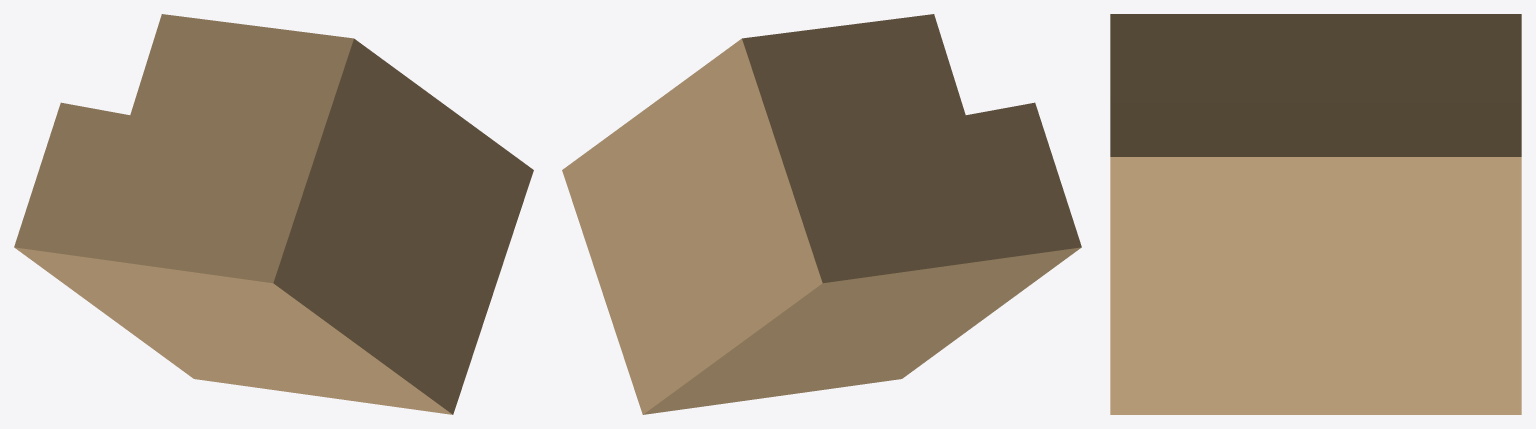
3 renders of one model, left to right at view 1: azimuth 30°, elevation 25°; view 2: azimuth 150°, elevation 25°; view 3: azimuth 270°, elevation 25°, orthographic. The views are drawn at different scales.
Visible parts, largest first — view 1: 0_0_1_3_1_2_1_0_0; view 2: 0_0_1_3_1_2_1_0_0; view 3: 0_0_1_3_1_2_1_0_0.
Boxes of the visible parts, x1,y1,x2,y2 form: 0_0_1_3_1_2_1_0_0: [14, 14, 533, 414]; 0_0_1_3_1_2_1_0_0: [562, 14, 1081, 414]; 0_0_1_3_1_2_1_0_0: [1110, 14, 1521, 414].
Bounding box in the file's own units: 26.19 × 21.83 × 24.
